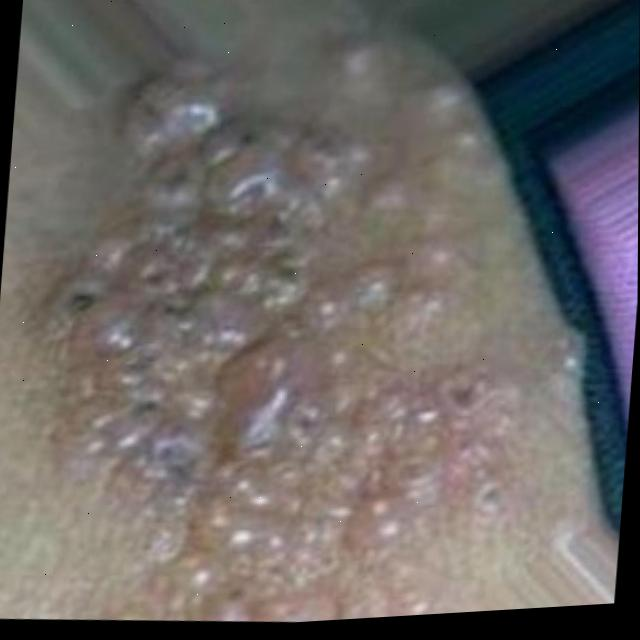Shingles: (22, 12, 537, 638)
